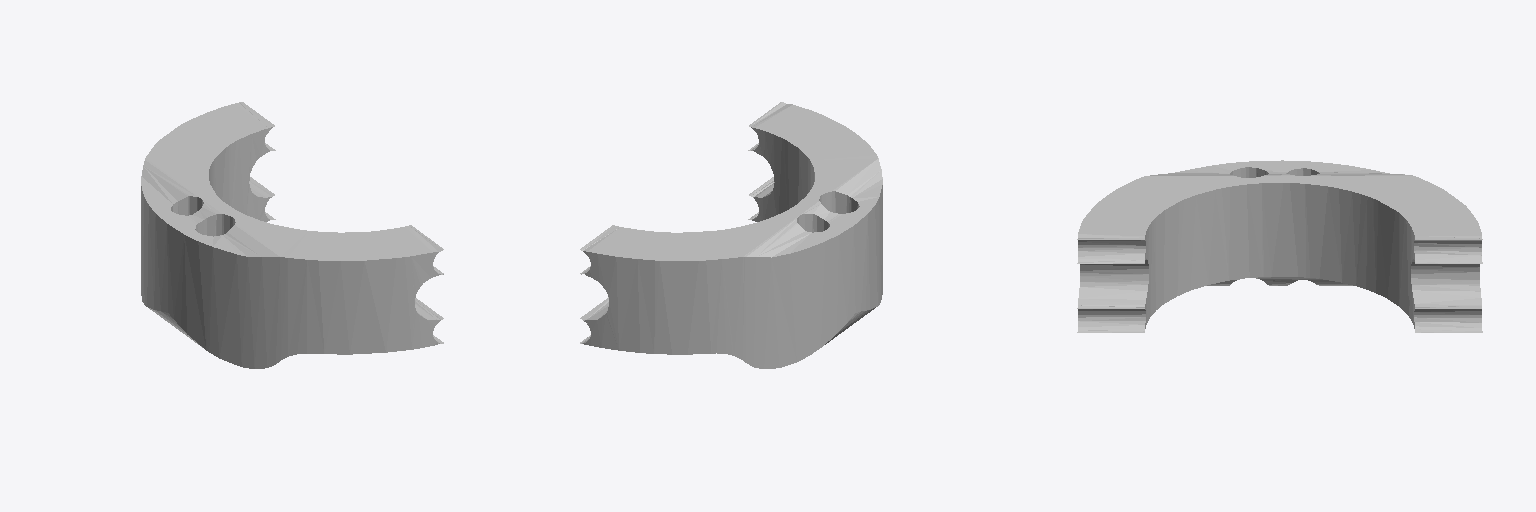
Rendered from seg23.OBJ.
The picture shows the model from 3 angles: view 1: azimuth 30°, elevation 25°; view 2: azimuth 150°, elevation 25°; view 3: azimuth 270°, elevation 25°; orthographic projection.
Visible parts, largest first — view 1: /ambf/env/seg23_seg23; view 2: /ambf/env/seg23_seg23; view 3: /ambf/env/seg23_seg23.
Boxes of the visible parts, box(x1,y1,x2,y2) form: /ambf/env/seg23_seg23: box(141, 102, 443, 368); /ambf/env/seg23_seg23: box(580, 102, 882, 368); /ambf/env/seg23_seg23: box(1077, 160, 1482, 332).
Bounding box in the file's own units: 0.003 × 0.0019 × 0.006.